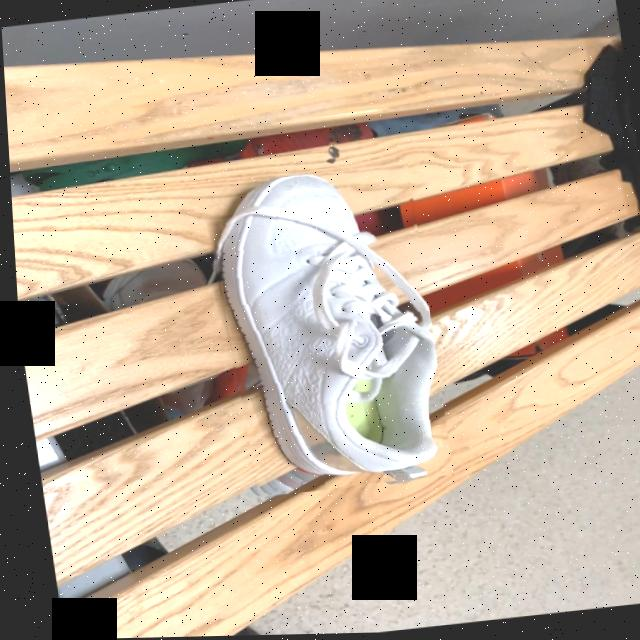shoe: (212, 176, 433, 482)
